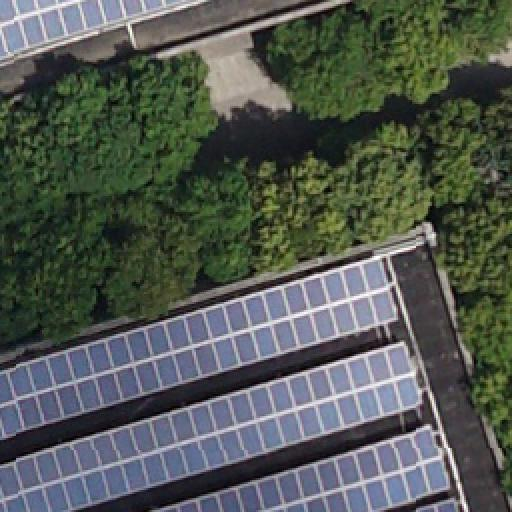solar-panel: (0, 337, 424, 511), (0, 256, 400, 440), (147, 422, 453, 512), (1, 0, 191, 60), (404, 496, 460, 512)
